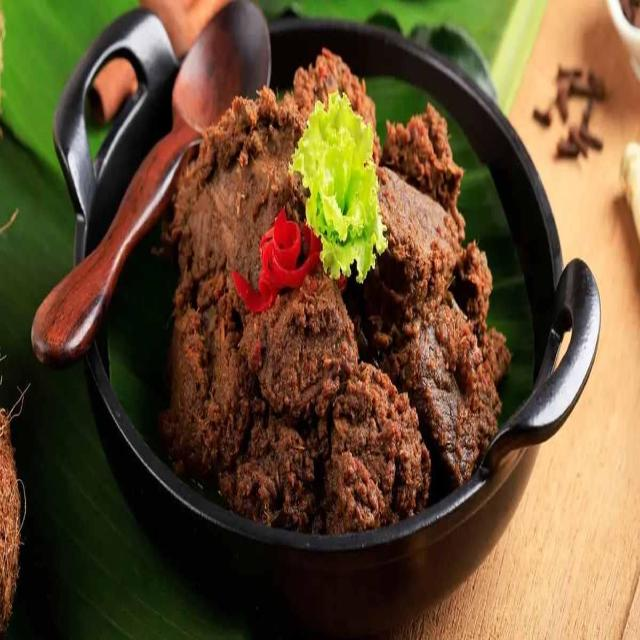Rendang: (152, 84, 518, 538)
